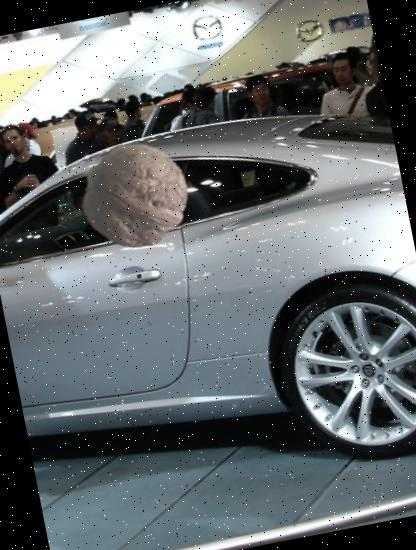Walnut: (72, 132, 199, 259)
